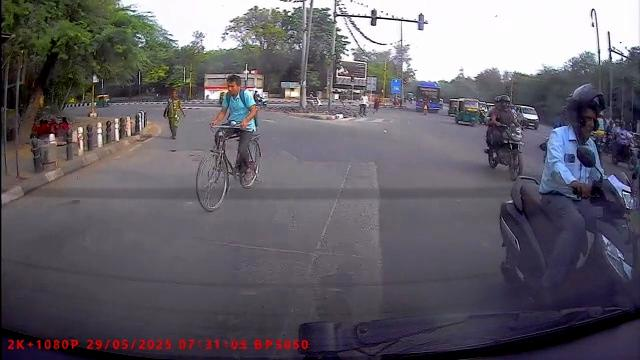motorcycle_with_helmet: (496, 82, 640, 311)
passenger_with_helmet: (485, 94, 527, 182)
